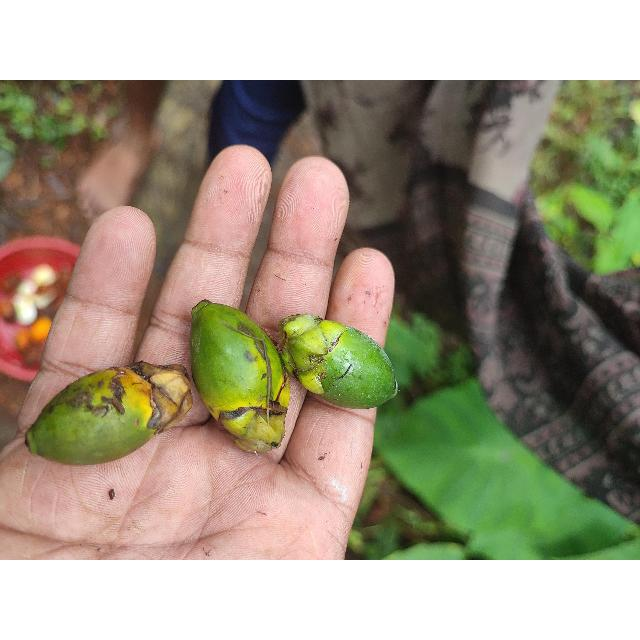damaged: (24, 363, 193, 467), (190, 301, 289, 460), (280, 316, 398, 410)
